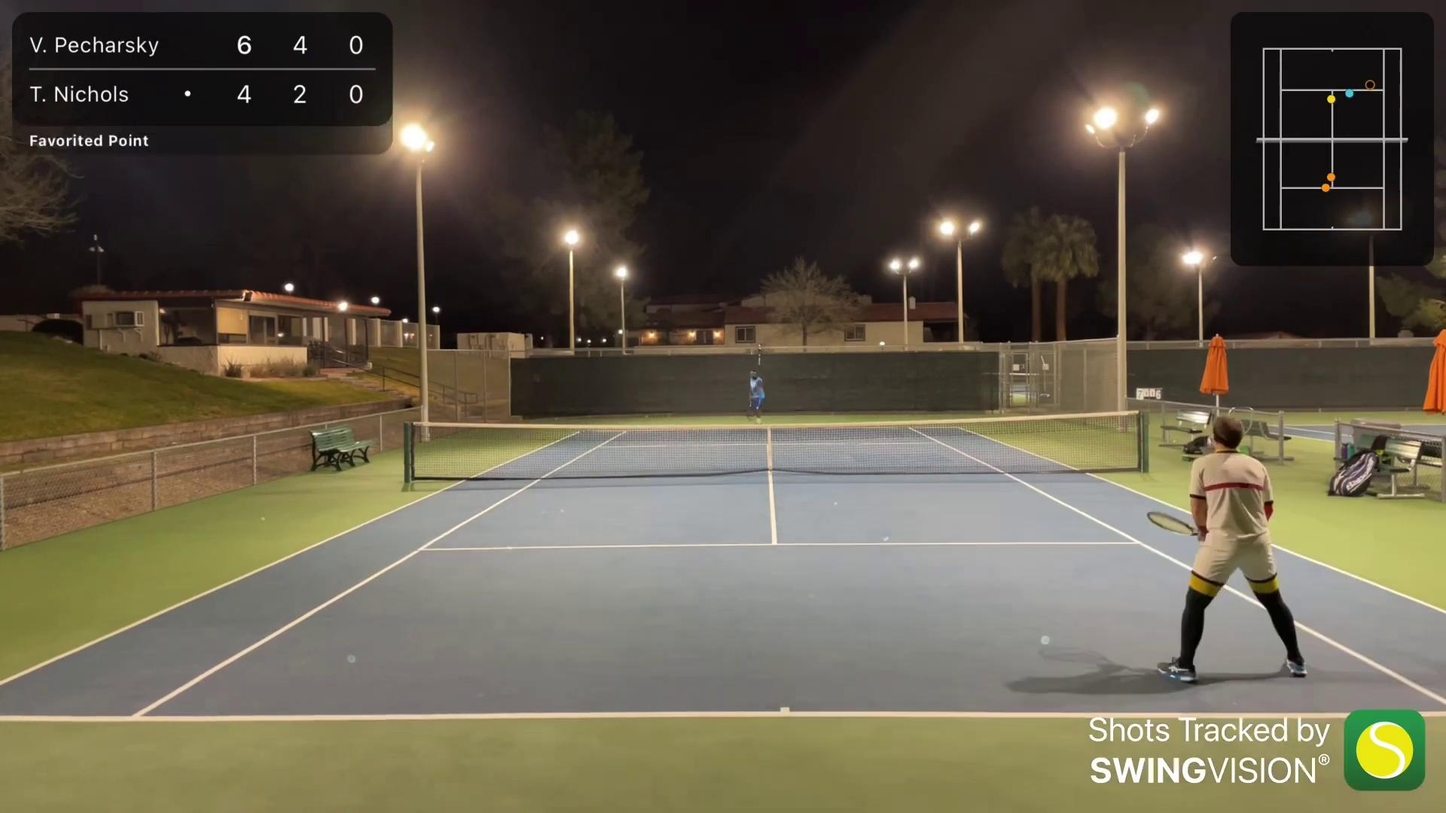ball: (347, 530, 350, 535)
